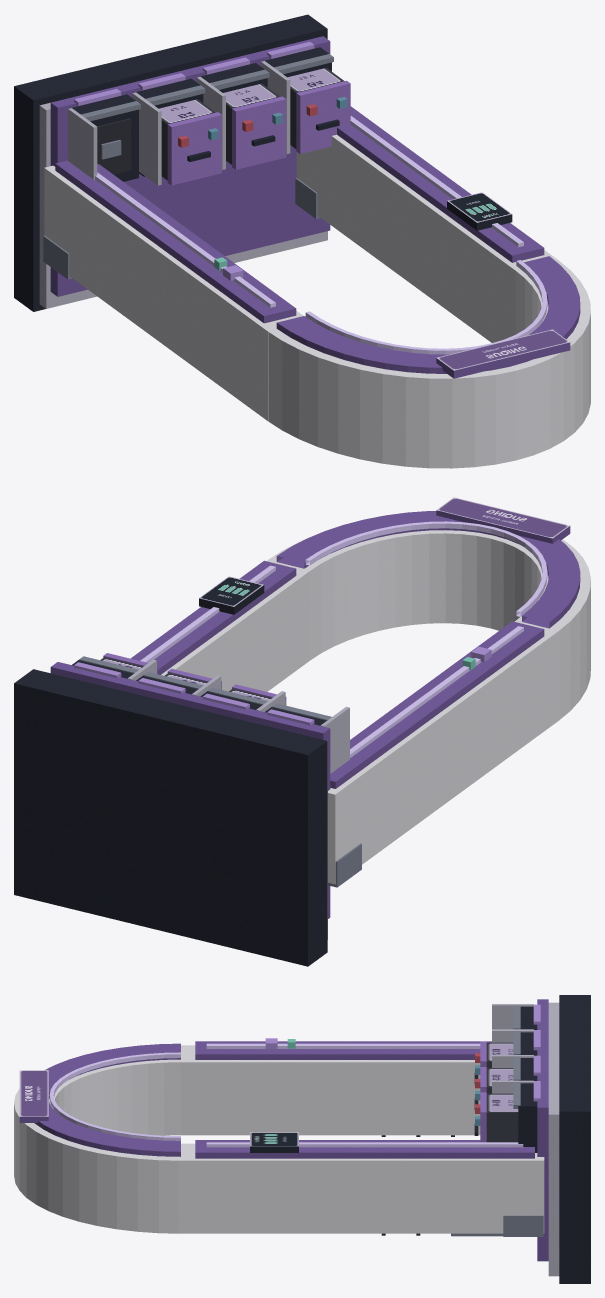
The model's file is portal_14.obj.
3 renders of one model, top to bottom at view 1: azimuth 30°, elevation 25°; view 2: azimuth 150°, elevation 25°; view 3: azimuth 270°, elevation 25°, orthographic. The views are drawn at different scales.
Parts seen in each view (by area): view 1: SuQingPortal_mask_14; view 2: SuQingPortal_mask_14; view 3: SuQingPortal_mask_14.
Part boxes in pixels (bbox=[...]): SuQingPortal_mask_14: bbox=[14, 14, 590, 468]; SuQingPortal_mask_14: bbox=[14, 497, 590, 966]; SuQingPortal_mask_14: bbox=[14, 995, 590, 1283].
Size of the model in its own units: 0.96 by 0.668 by 2.01.
Materials: 1 (1 with a texture image).
